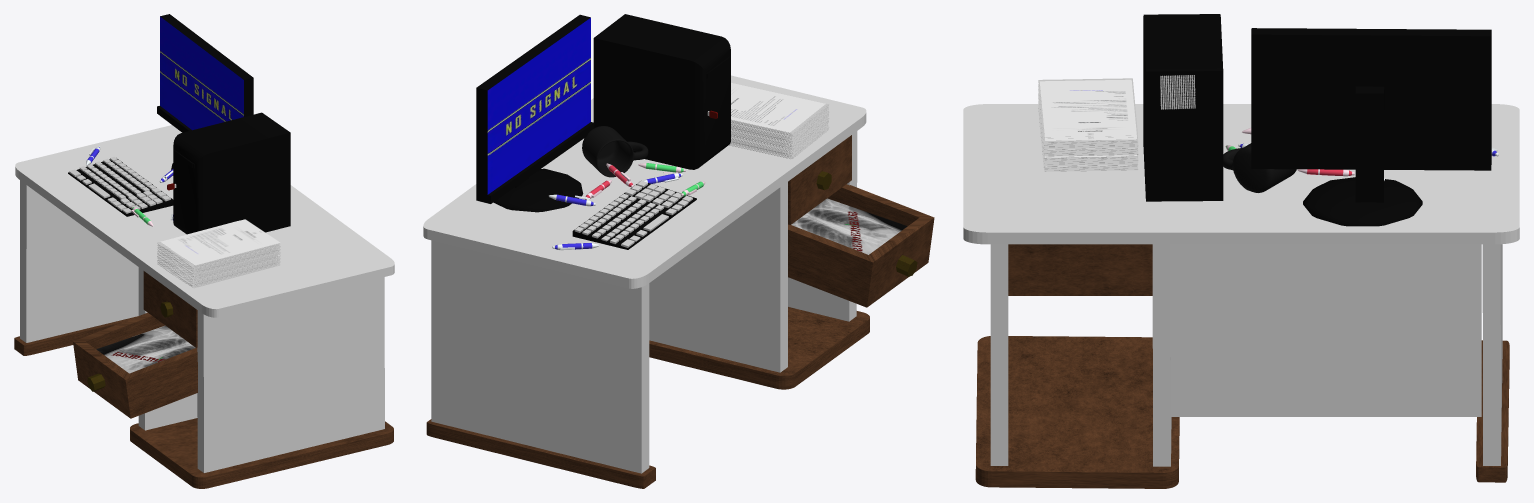
The model's file is OFFICE DESK 2 .fbx.
3 renders of one model, left to right at view 1: azimuth 30°, elevation 25°; view 2: azimuth 150°, elevation 25°; view 3: azimuth 270°, elevation 25°, orthographic. The views are drawn at different scales.
Visible parts, largest first — view 1: Cube, Plane, Cube.007, Plane.001, Cube.003, Cube.005, Cube.002, Plane.300, Plane.494, Cube.006, Cube.001, Cube.004 (+1 smaller); view 2: Cube.007, Plane, Cube.001, Plane.001, Cube.003, Cube.005, Cube.002, Cube.008, Plane.494, Plane.300, Cube.006, Icosphere (+3 smaller); view 3: Cube.009, Plane, Cube.003, Cube.002, Plane.001, Cube.006, Plane.300, Cube.007, Cube, Cube.001, Icosphere, Cube.008 (+1 smaller).
Boxes of the visible parts, x1,y1,x2,y2 form: Cube: (197,277,384,472); Plane: (15,125,394,317); Cube.007: (20,180,138,342); Plane.001: (173,112,290,234); Cube.003: (157,14,253,132); Cube.005: (73,312,197,418); Cube.002: (130,418,393,488); Plane.300: (160,220,274,265); Plane.494: (96,325,195,373); Cube.006: (143,271,197,347); Cube.001: (138,267,197,430); Cube.004: (68,159,173,216); Cube.007: (431,240,649,473); Plane: (423,75,866,288); Cube.001: (649,182,787,372); Plane.001: (593,14,730,169); Cube.003: (476,14,594,203); Cube.005: (788,184,934,307); Cube.002: (649,307,869,389); Cube.008: (426,419,655,488); Plane.494: (791,198,907,254); Plane.300: (731,82,825,132); Cube.006: (788,135,851,224); Icosphere: (493,168,583,212); Cube.009: (1170,244,1481,416); Plane: (963,104,1519,244); Cube.003: (1251,28,1491,202); Cube.002: (975,336,1179,488); Plane.001: (1143,14,1223,201); Cube.006: (1008,244,1152,295); Plane.300: (1039,79,1136,137); Cube.007: (1482,244,1502,465); Cube: (990,244,1008,465); Cube.001: (1152,244,1171,466); Icosphere: (1303,177,1422,226); Cube.008: (1476,340,1509,482).
Size of the model in its own units: 290 by 310 by 370.
